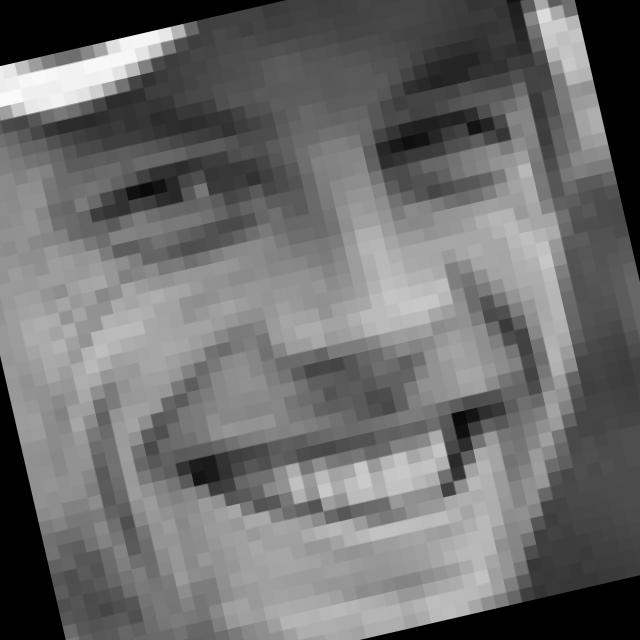happy: (0, 15, 621, 640)
